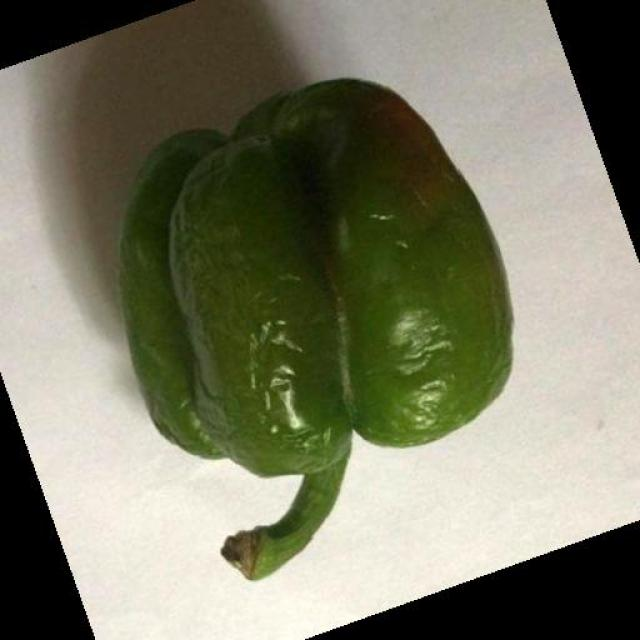Stale_Capsicum: (103, 77, 508, 470)
